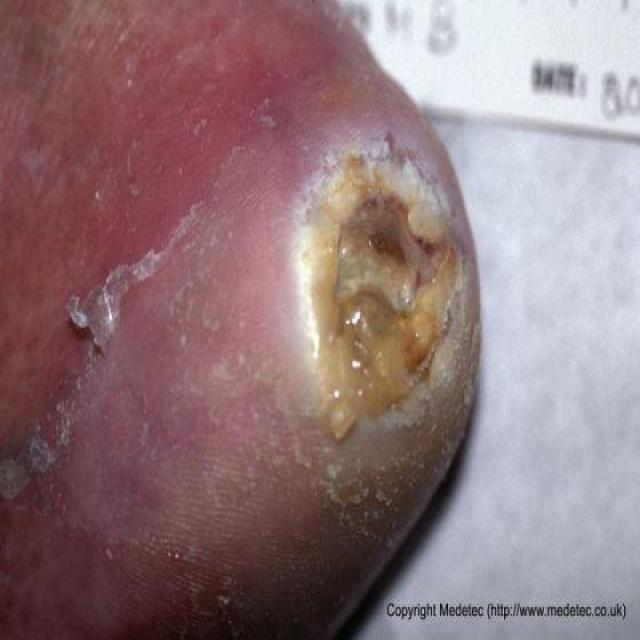Unstageable: (302, 156, 461, 439)
